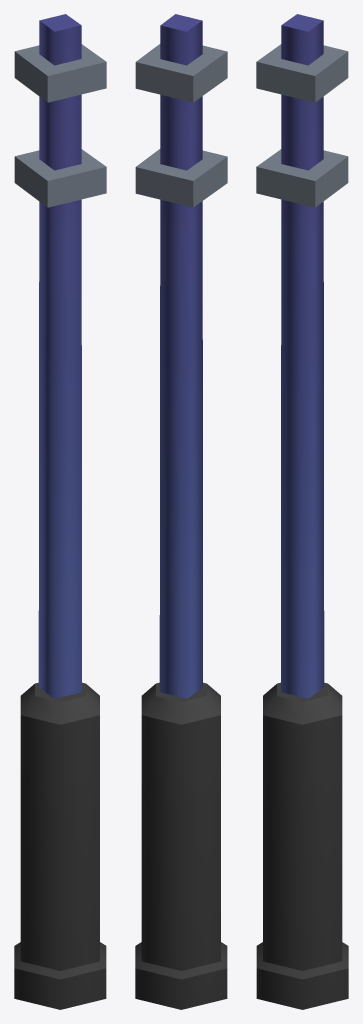
Rendered from SignHolder_3_C.fbx.
3 renders of one model, left to right at view 1: azimuth 30°, elevation 25°; view 2: azimuth 150°, elevation 25°; view 3: azimuth 330°, elevation 25°, orthographic.
Parts seen in each view (by area): view 1: SignHolder_3_C; view 2: SignHolder_3_C; view 3: SignHolder_3_C.
Boxes of the visible parts, bbox=[...] form: SignHolder_3_C: bbox=[14, 14, 106, 1009]; SignHolder_3_C: bbox=[135, 14, 227, 1009]; SignHolder_3_C: bbox=[256, 14, 348, 1009].
Size of the model in its own units: 28.06 by 281 by 24.3.
